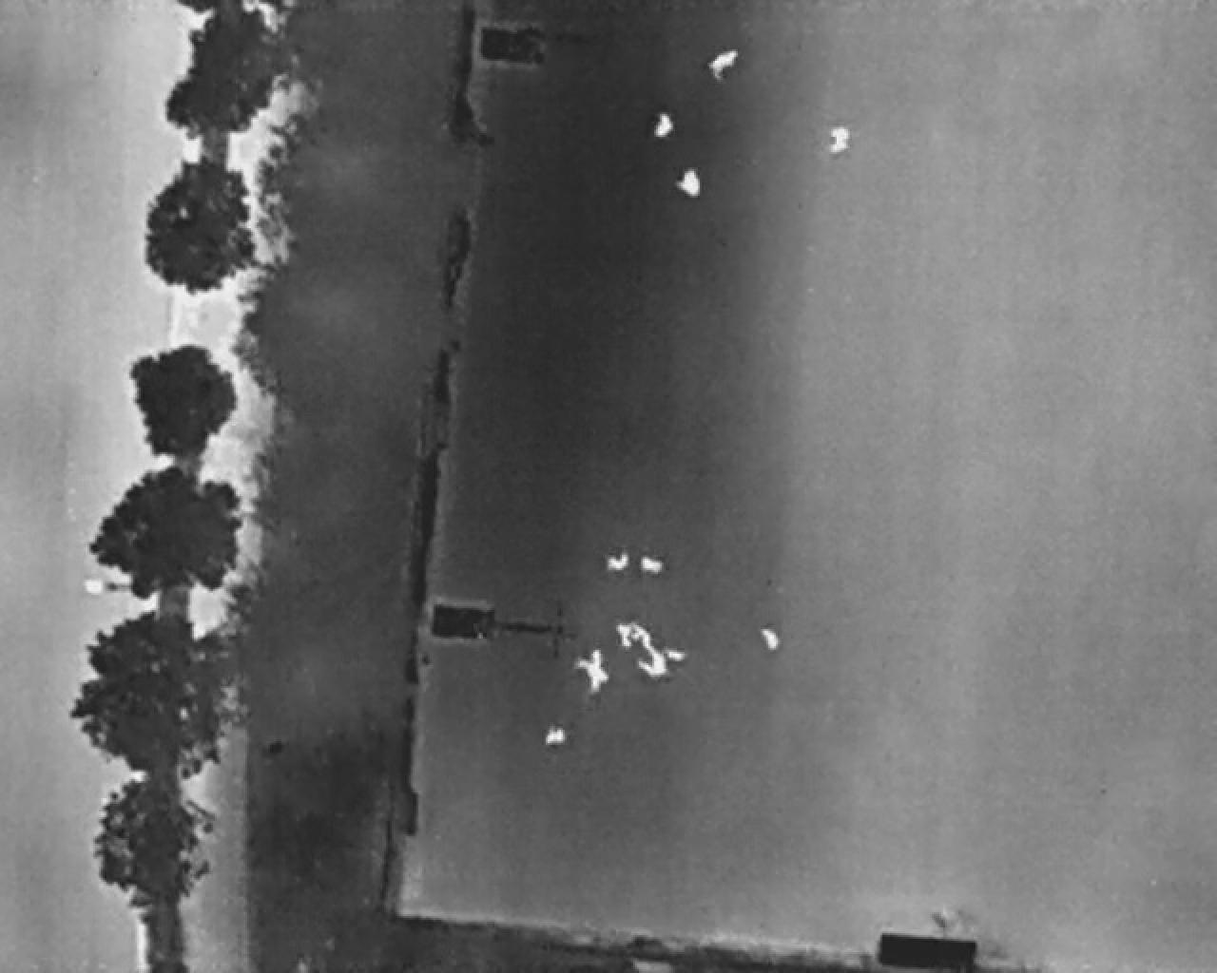person: (568, 645, 617, 698), (701, 41, 746, 86), (638, 643, 670, 685), (822, 121, 855, 159), (672, 166, 706, 202), (649, 109, 680, 145), (758, 622, 786, 657), (638, 552, 666, 581), (628, 619, 653, 647), (543, 725, 570, 750), (663, 645, 691, 668), (615, 619, 636, 649), (606, 552, 632, 573)
